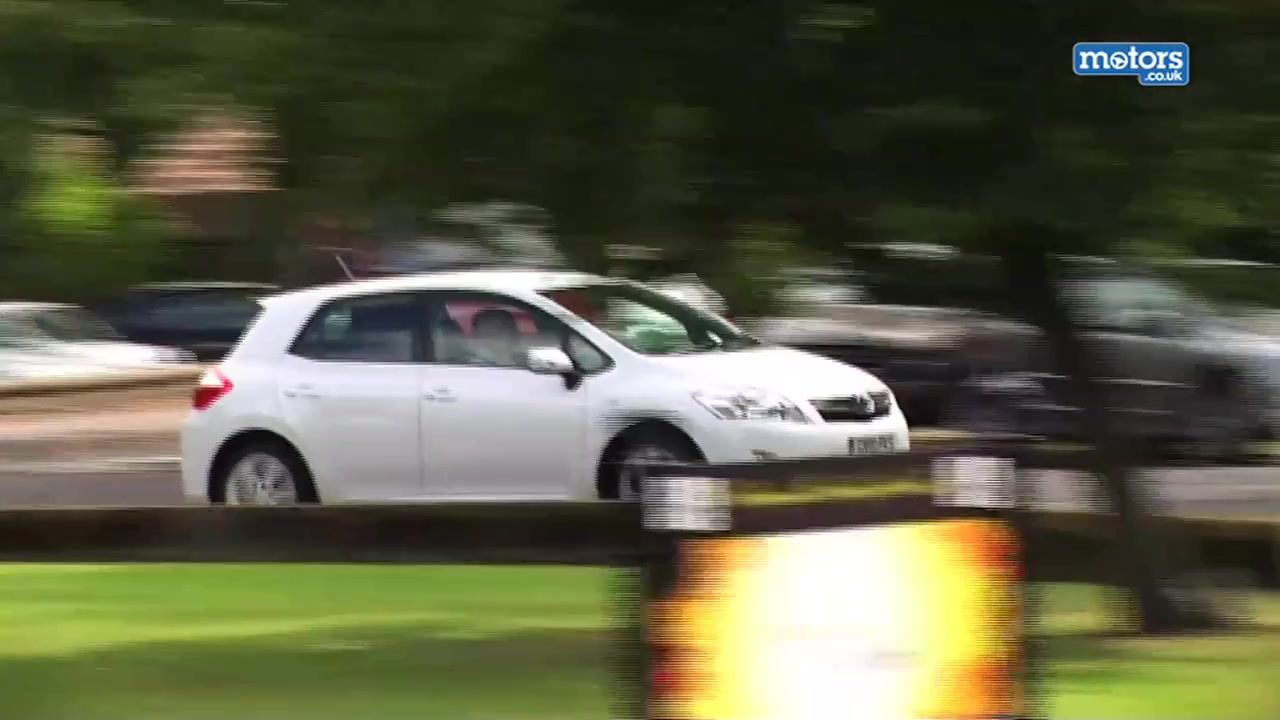car: (181, 267, 911, 518), (868, 263, 1280, 450), (606, 256, 984, 402), (91, 281, 364, 359), (2, 299, 195, 398)
